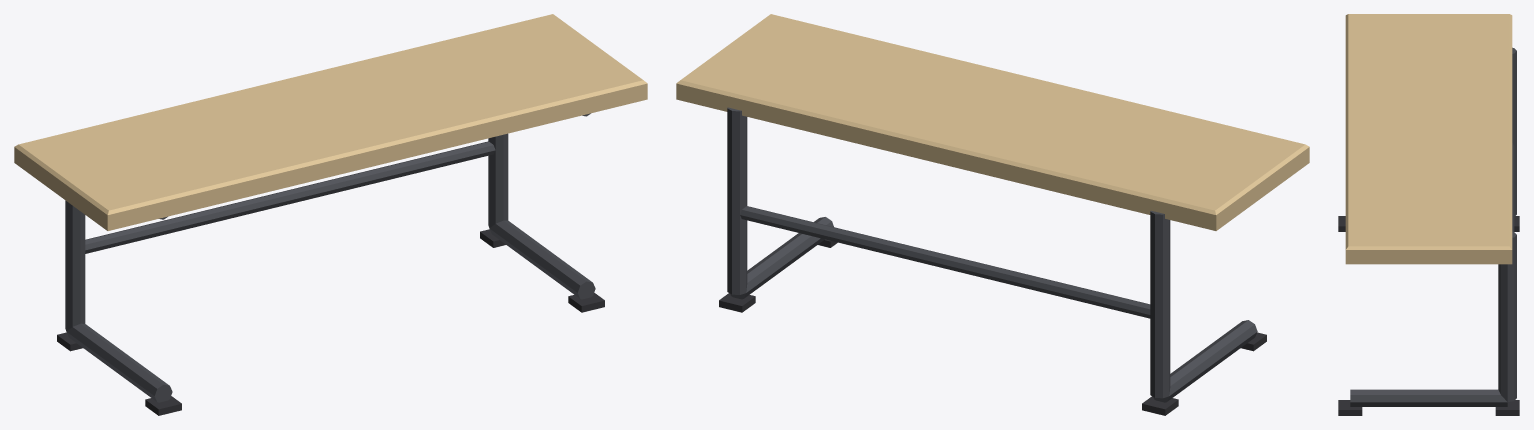
The model's file is FN_Bench_Stacking.glb.
3 renders of one model, left to right at view 1: azimuth 30°, elevation 25°; view 2: azimuth 150°, elevation 25°; view 3: azimuth 270°, elevation 25°, orthographic. The views are drawn at different scales.
Visible parts, largest first — view 1: FN_Bench_Stacking; view 2: FN_Bench_Stacking; view 3: FN_Bench_Stacking.
Boxes of the visible parts, x1,y1,x2,y2 form: FN_Bench_Stacking: (14, 14, 647, 415); FN_Bench_Stacking: (676, 14, 1309, 415); FN_Bench_Stacking: (1338, 14, 1519, 415).
Size of the model in its own units: 1.2 by 0.45 by 0.392.
Materials: 1 (1 with a texture image).
